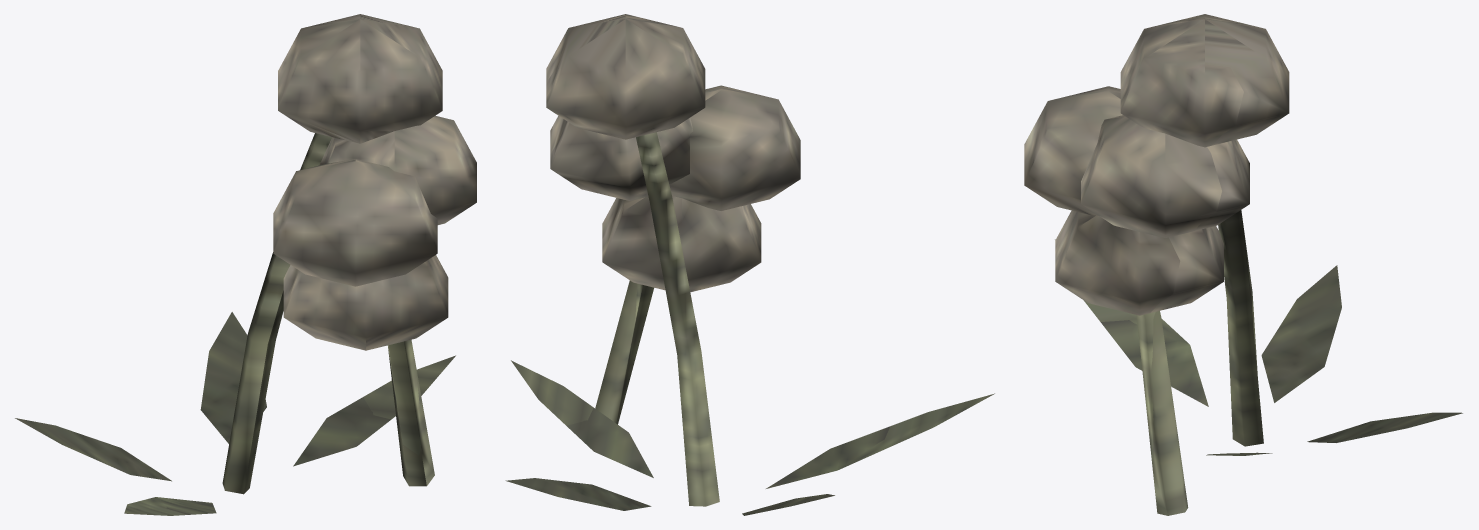
File: flower_pale_bell.glb
3 renders of one model, left to right at view 1: azimuth 30°, elevation 25°; view 2: azimuth 150°, elevation 25°; view 3: azimuth 270°, elevation 25°, orthographic. The views are drawn at different scales.
Visible parts, largest first — view 1: flower_pale_bell; view 2: flower_pale_bell; view 3: flower_pale_bell.
Boxes of the visible parts, <box> form: flower_pale_bell: <box>15,14,476,515</box>; flower_pale_bell: <box>505,14,994,515</box>; flower_pale_bell: <box>1024,14,1462,515</box>.
Bounding box in the file's own units: 0.3561 × 0.3769 × 0.3173.
1 material, 1 textured.
